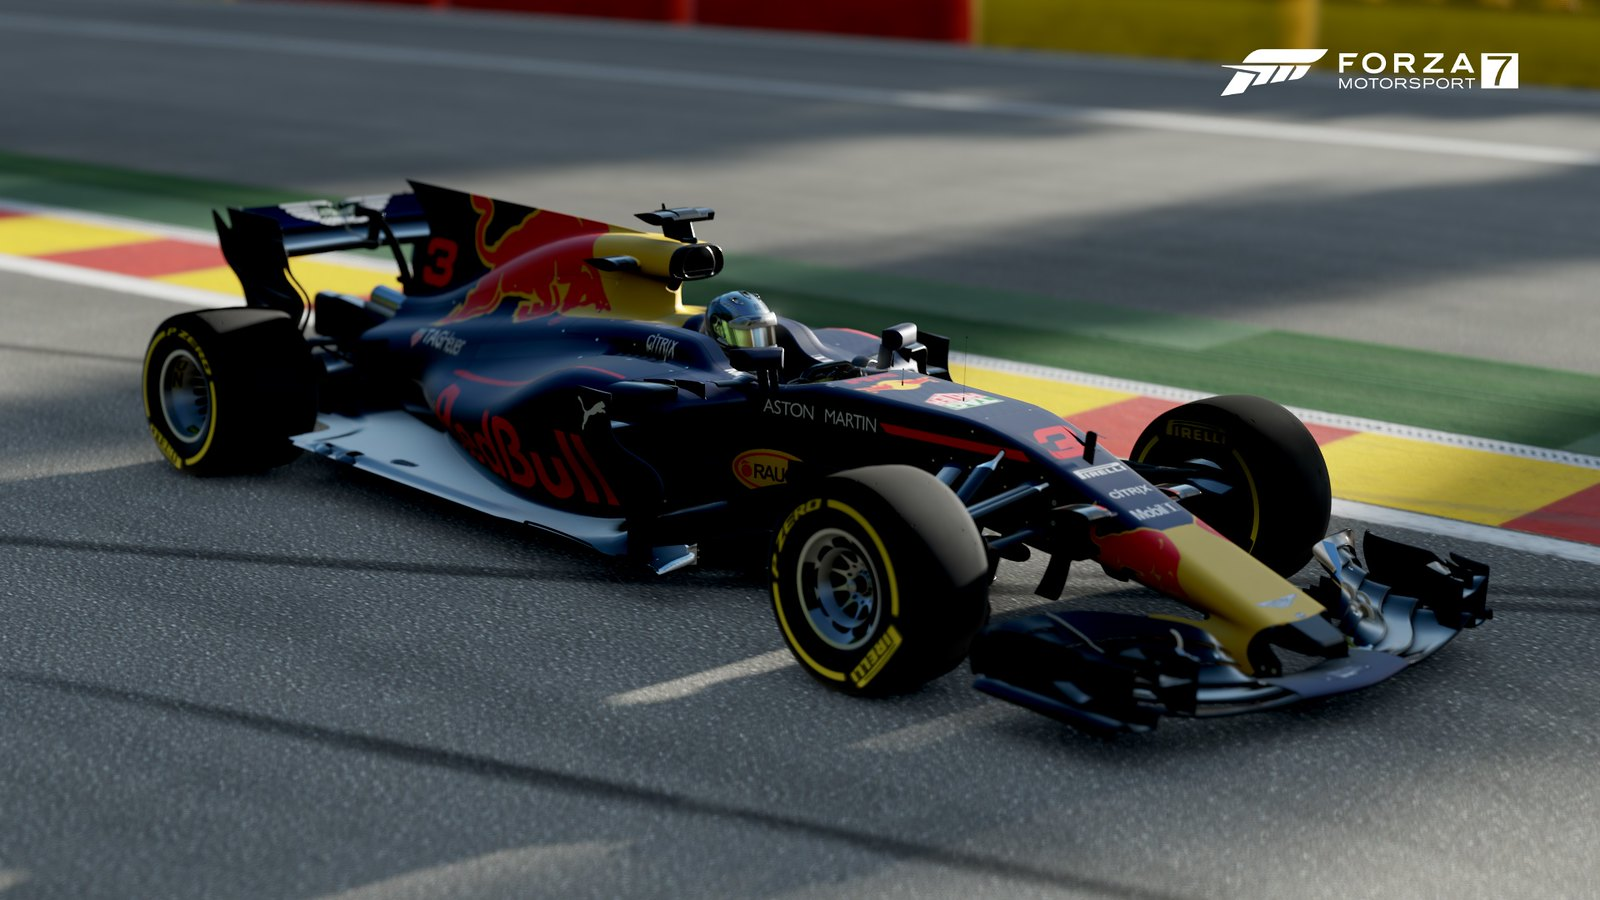f1_car: (126, 156, 1526, 763)
